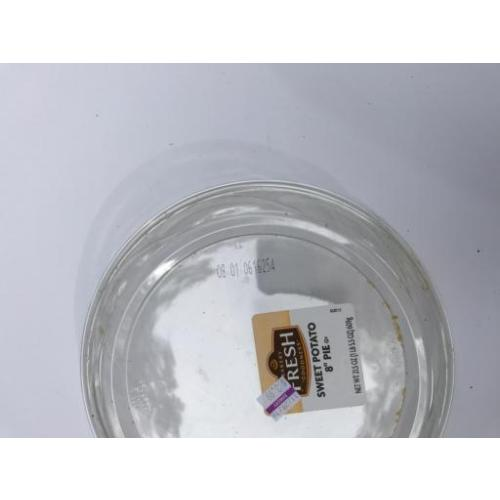plastic: (82, 180, 453, 436)
